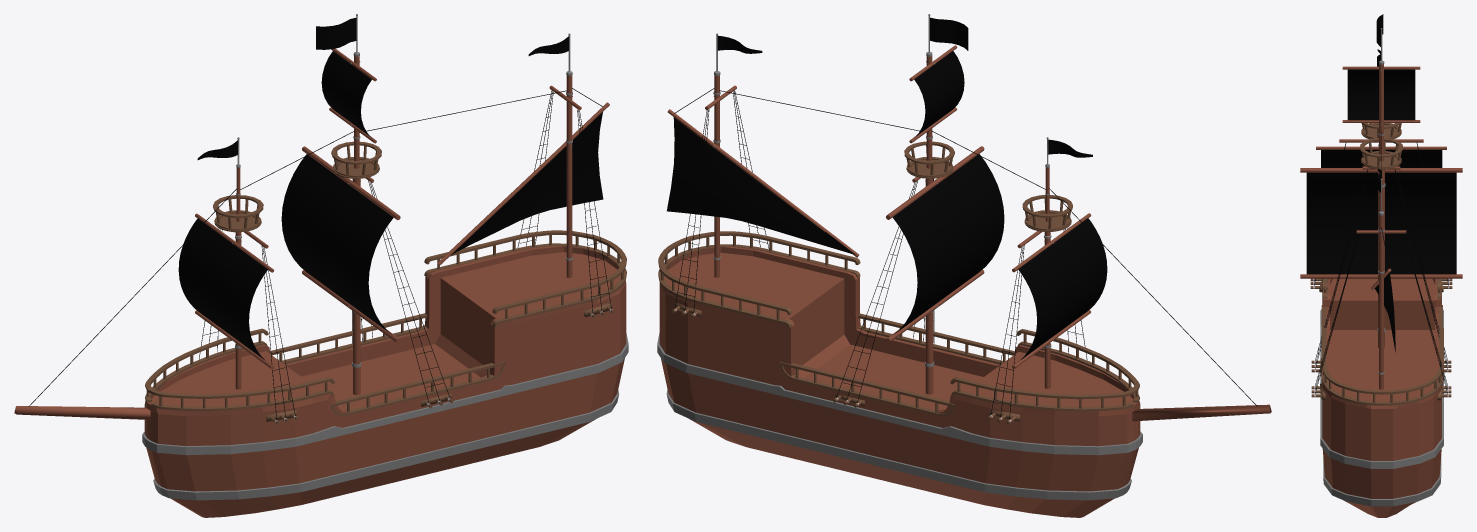
File: Barco_Unity.fbx
3 views of the same model, side by side, from view 1: azimuth 30°, elevation 25°; view 2: azimuth 150°, elevation 25°; view 3: azimuth 270°, elevation 25° (orthographic). The views are drawn at different scales.
Parts seen in each view (by area): view 1: Bandera_3.093, Bandera_3.003, Bandera_3.056, Bandera_3.258, Bandera_3.098, Bandera_3.239, Bandera_3.288, Bandera_3.011, Bandera_3.334; view 2: Bandera_3.093, Bandera_3.003, Bandera_3.056, Bandera_3.258, Bandera_3.098, Bandera_3.288, Bandera_3.239, Bandera_3.334; view 3: Bandera_3.093, Bandera_3.003, Bandera_3.011, Bandera_3.258, Bandera_3.056, Bandera_3.098, Bandera_3.239, Bandera_3.288, Bandera_3.334.
Part boxes in pixels (x1,y1,x2,y2): Bandera_3.093: (14,246,628,517); Bandera_3.003: (178,36,603,360); Bandera_3.056: (145,230,626,416); Bandera_3.258: (195,48,609,369); Bandera_3.098: (29,88,611,420); Bandera_3.239: (235,56,572,394); Bandera_3.288: (213,141,381,232); Bandera_3.011: (316,18,356,49); Bandera_3.334: (266,302,614,425); Bandera_3.093: (657,246,1271,517); Bandera_3.003: (667,17,1107,360); Bandera_3.056: (658,231,1139,416); Bandera_3.258: (667,45,1091,368); Bandera_3.098: (674,88,1256,419); Bandera_3.288: (904,141,1072,231); Bandera_3.239: (714,56,1050,394); Bandera_3.334: (671,302,1090,424); Bandera_3.093: (1320,278,1443,517); Bandera_3.003: (1306,14,1456,352); Bandera_3.011: (1347,23,1415,120); Bandera_3.258: (1300,66,1462,290); Bandera_3.056: (1321,278,1443,405); Bandera_3.098: (1314,131,1448,394); Bandera_3.239: (1378,64,1384,389); Bandera_3.288: (1359,123,1403,169); Bandera_3.334: (1310,278,1452,400).
Size of the model in its own units: 10282 by 7553 by 2777.
